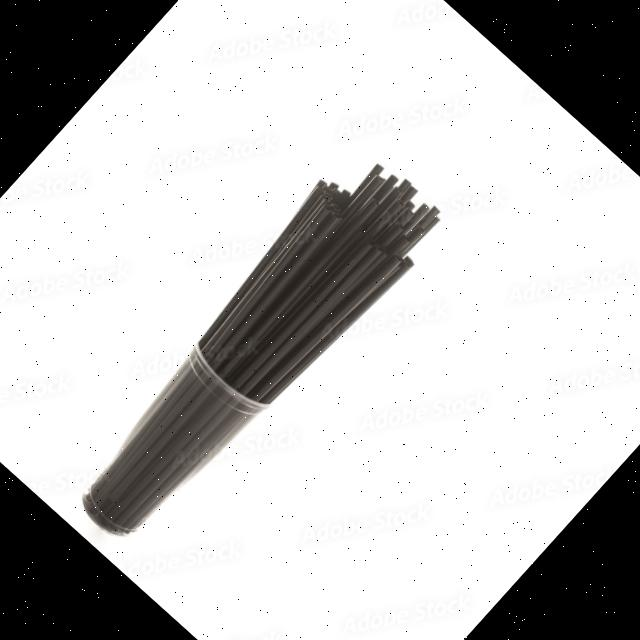plastic: (240, 242, 386, 402)
